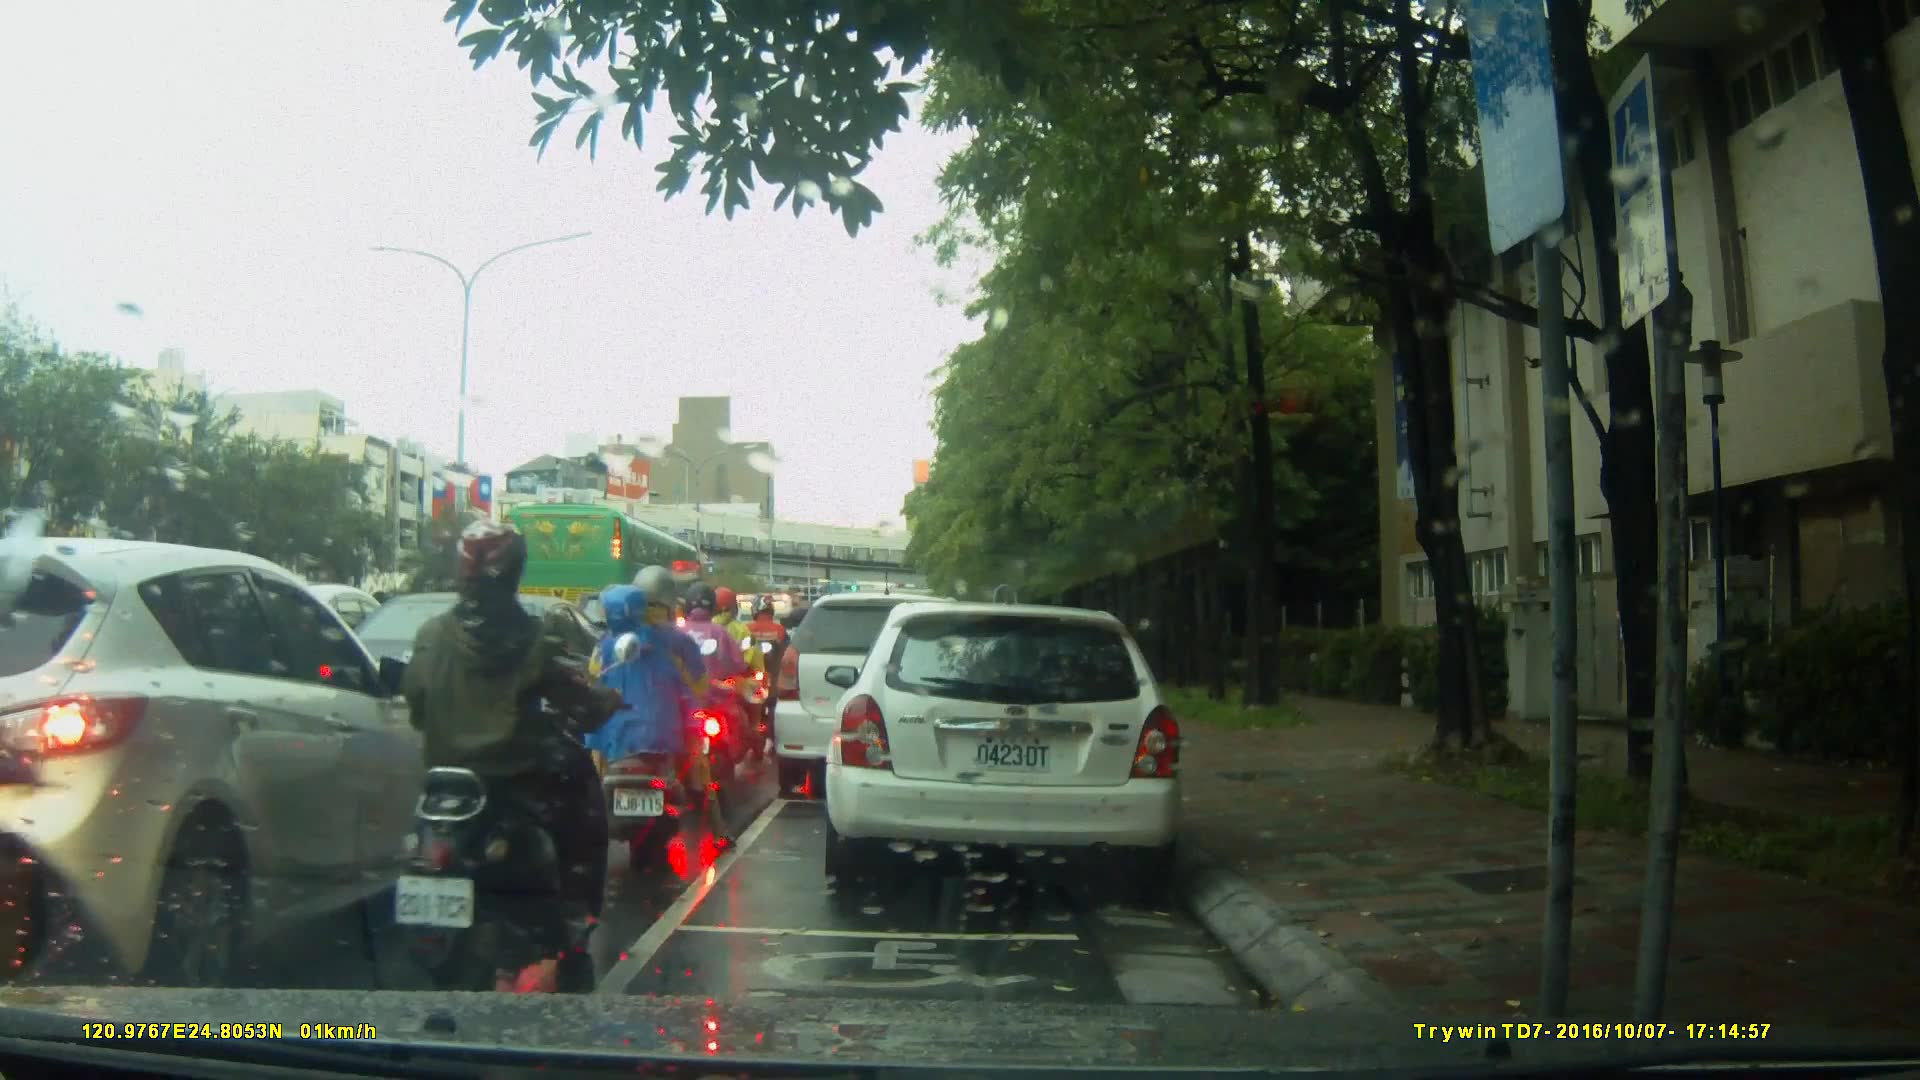rider: (368, 509, 625, 1013), (588, 566, 725, 854), (666, 585, 738, 790), (701, 587, 775, 781), (740, 592, 792, 739)
vehicle: (4, 535, 468, 988), (831, 592, 1196, 897), (313, 589, 629, 776), (770, 590, 999, 804), (501, 503, 709, 636)
